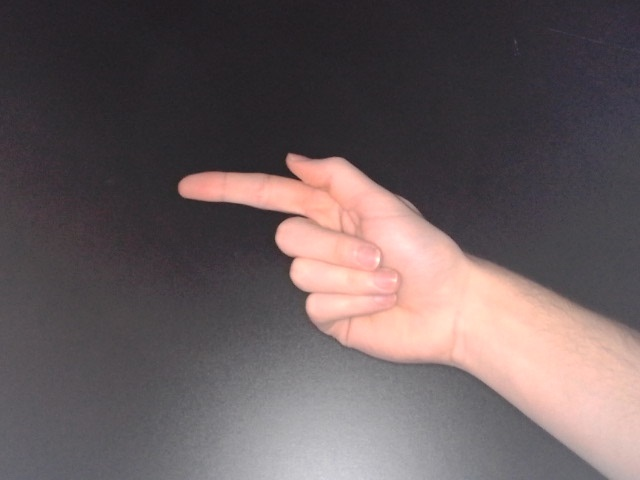g: (172, 146, 491, 384)
